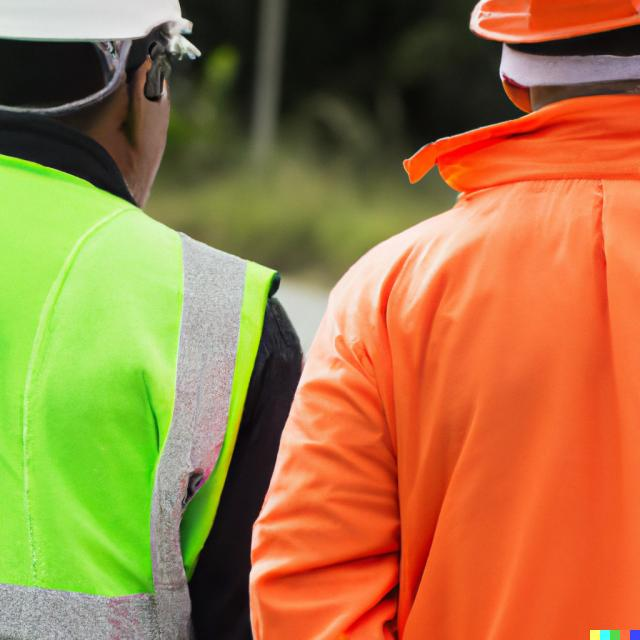Reflective-Jacket: (349, 76, 640, 610), (3, 144, 279, 640)
Safety-Helmet: (0, 0, 195, 49), (469, 0, 639, 51)
